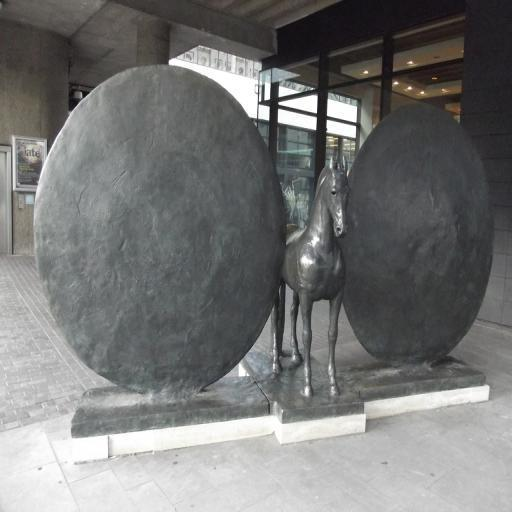horse: (270, 154, 352, 396)
